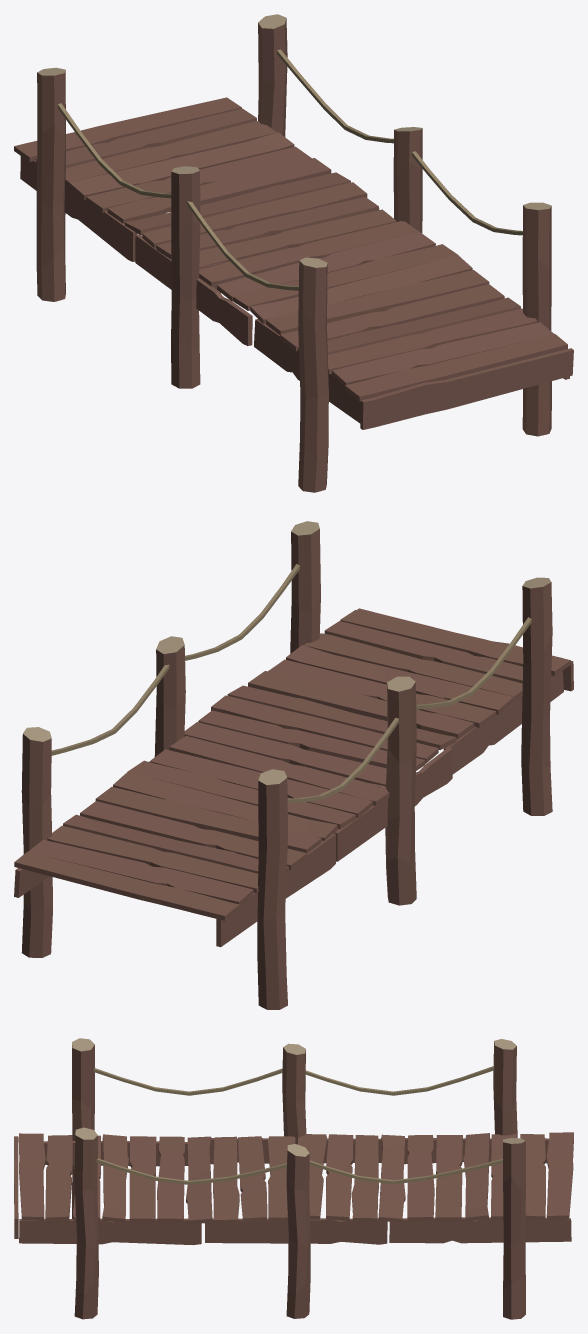
Rendered from Dock_Long.glb.
The picture shows the model from 3 angles, top to bottom: view 1: azimuth 30°, elevation 25°; view 2: azimuth 150°, elevation 25°; view 3: azimuth 270°, elevation 25°; orthographic projection. The views are drawn at different scales.
Visible parts, largest first — view 1: Dock_Long; view 2: Dock_Long; view 3: Dock_Long.
Part boxes in pixels (x1,y1,x2,y2): Dock_Long: (14,14,573,492); Dock_Long: (14,521,573,1009); Dock_Long: (14,1038,573,1319).
Bounding box in the file's own units: 9.21 × 7.8 × 21.69.
